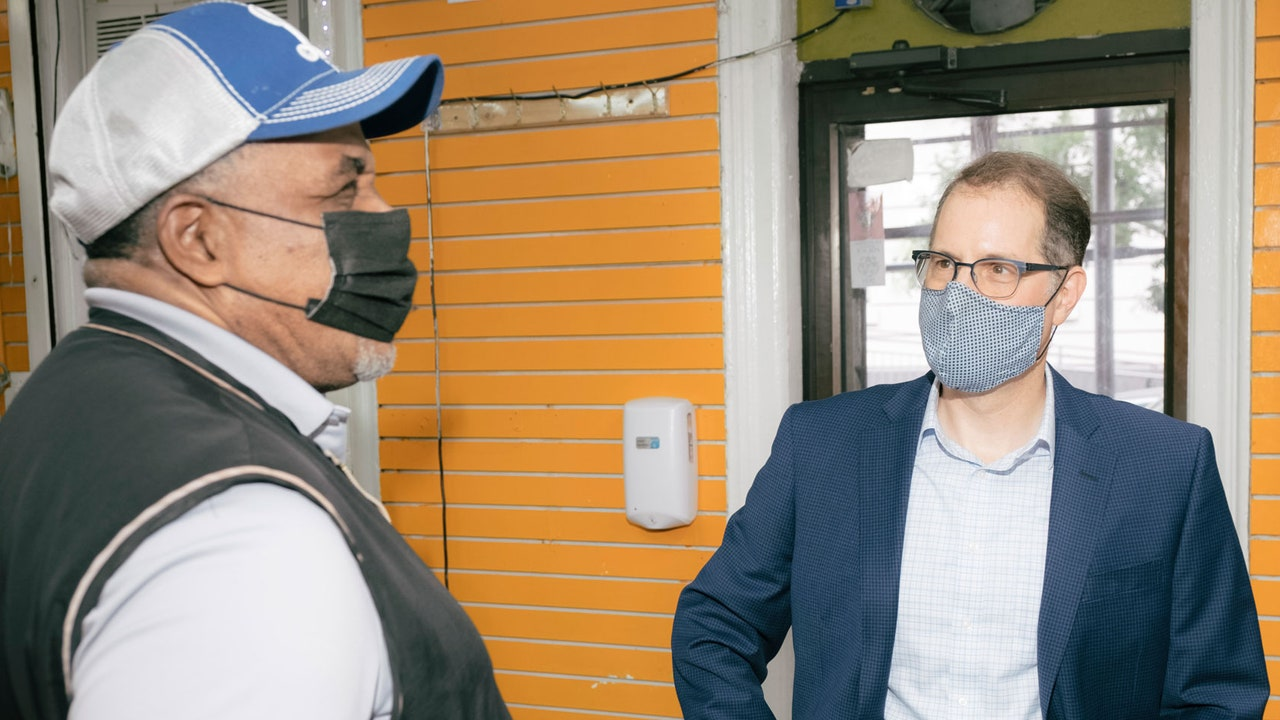with_mask: (304, 162, 397, 341), (926, 244, 1039, 367)
